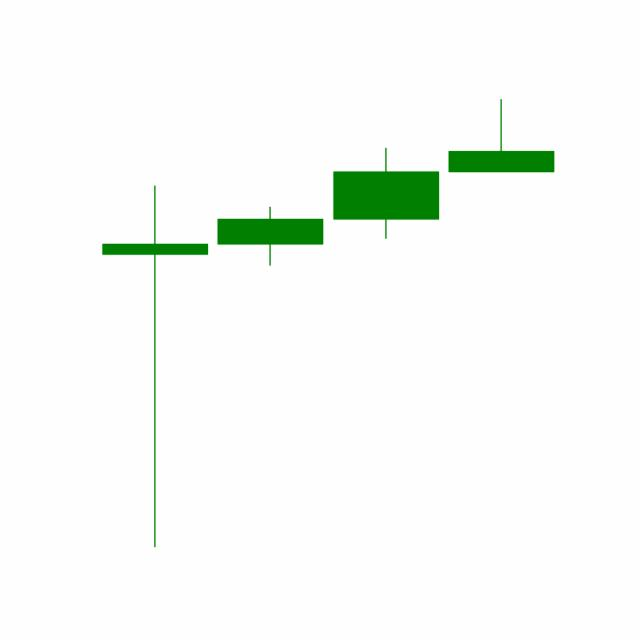Marubozu: (328, 146, 444, 241)
